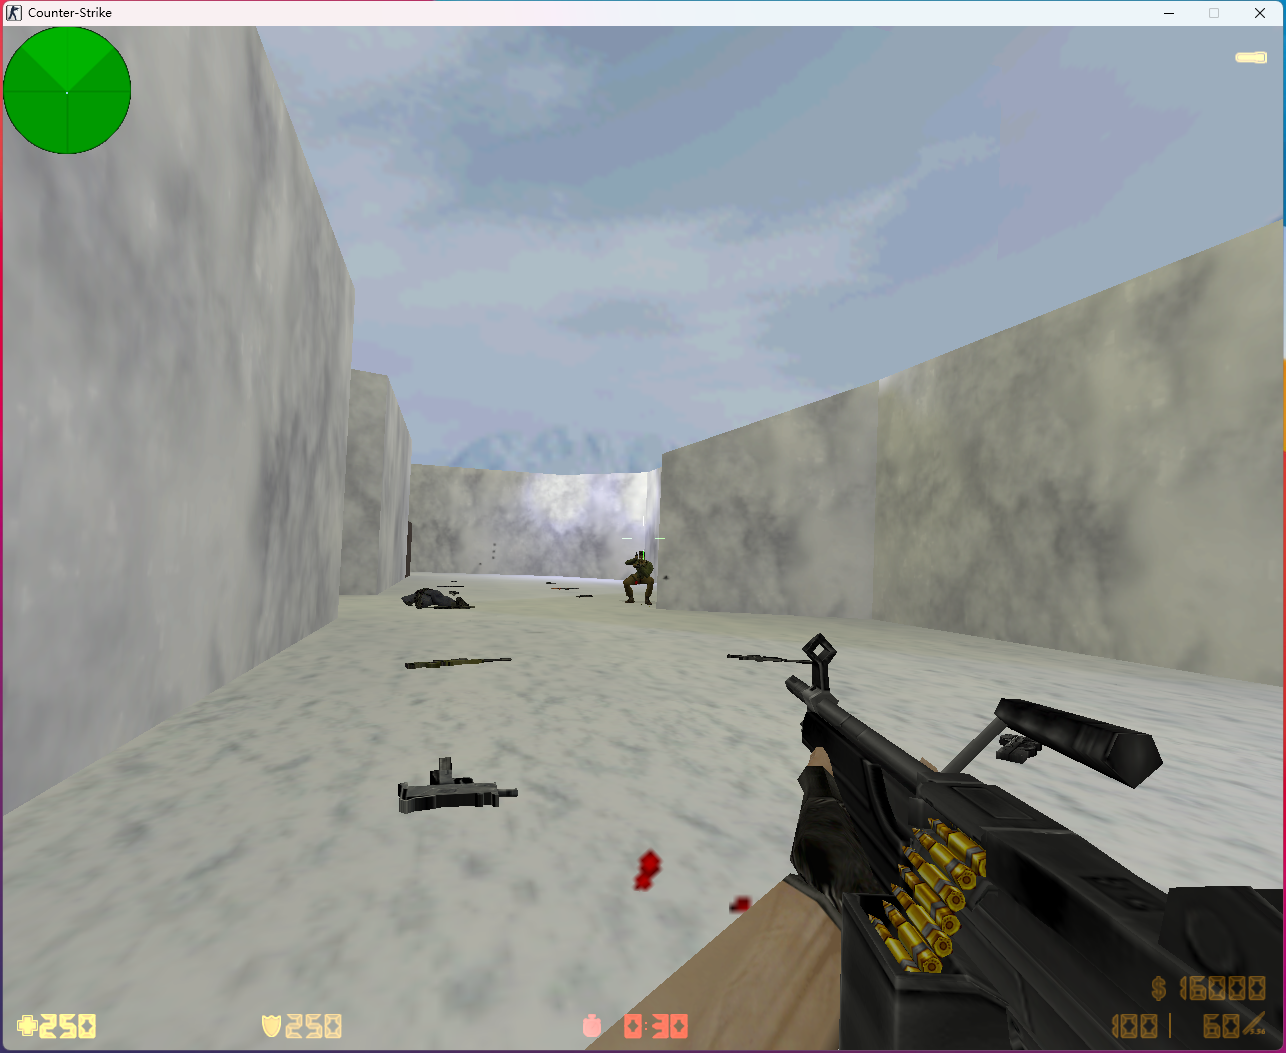T: (622, 552, 655, 607)
dead: (399, 585, 470, 611)
weapon: (392, 756, 520, 812), (403, 650, 517, 677), (724, 650, 811, 666)
